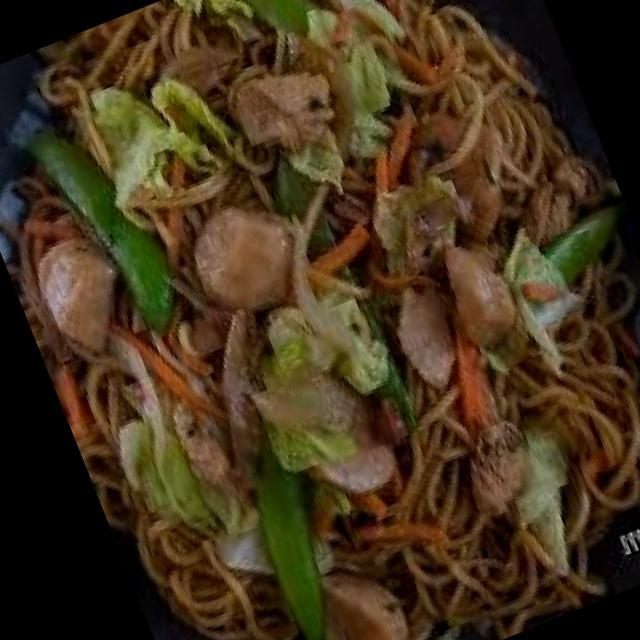pancit bihon: (6, 0, 639, 639)
